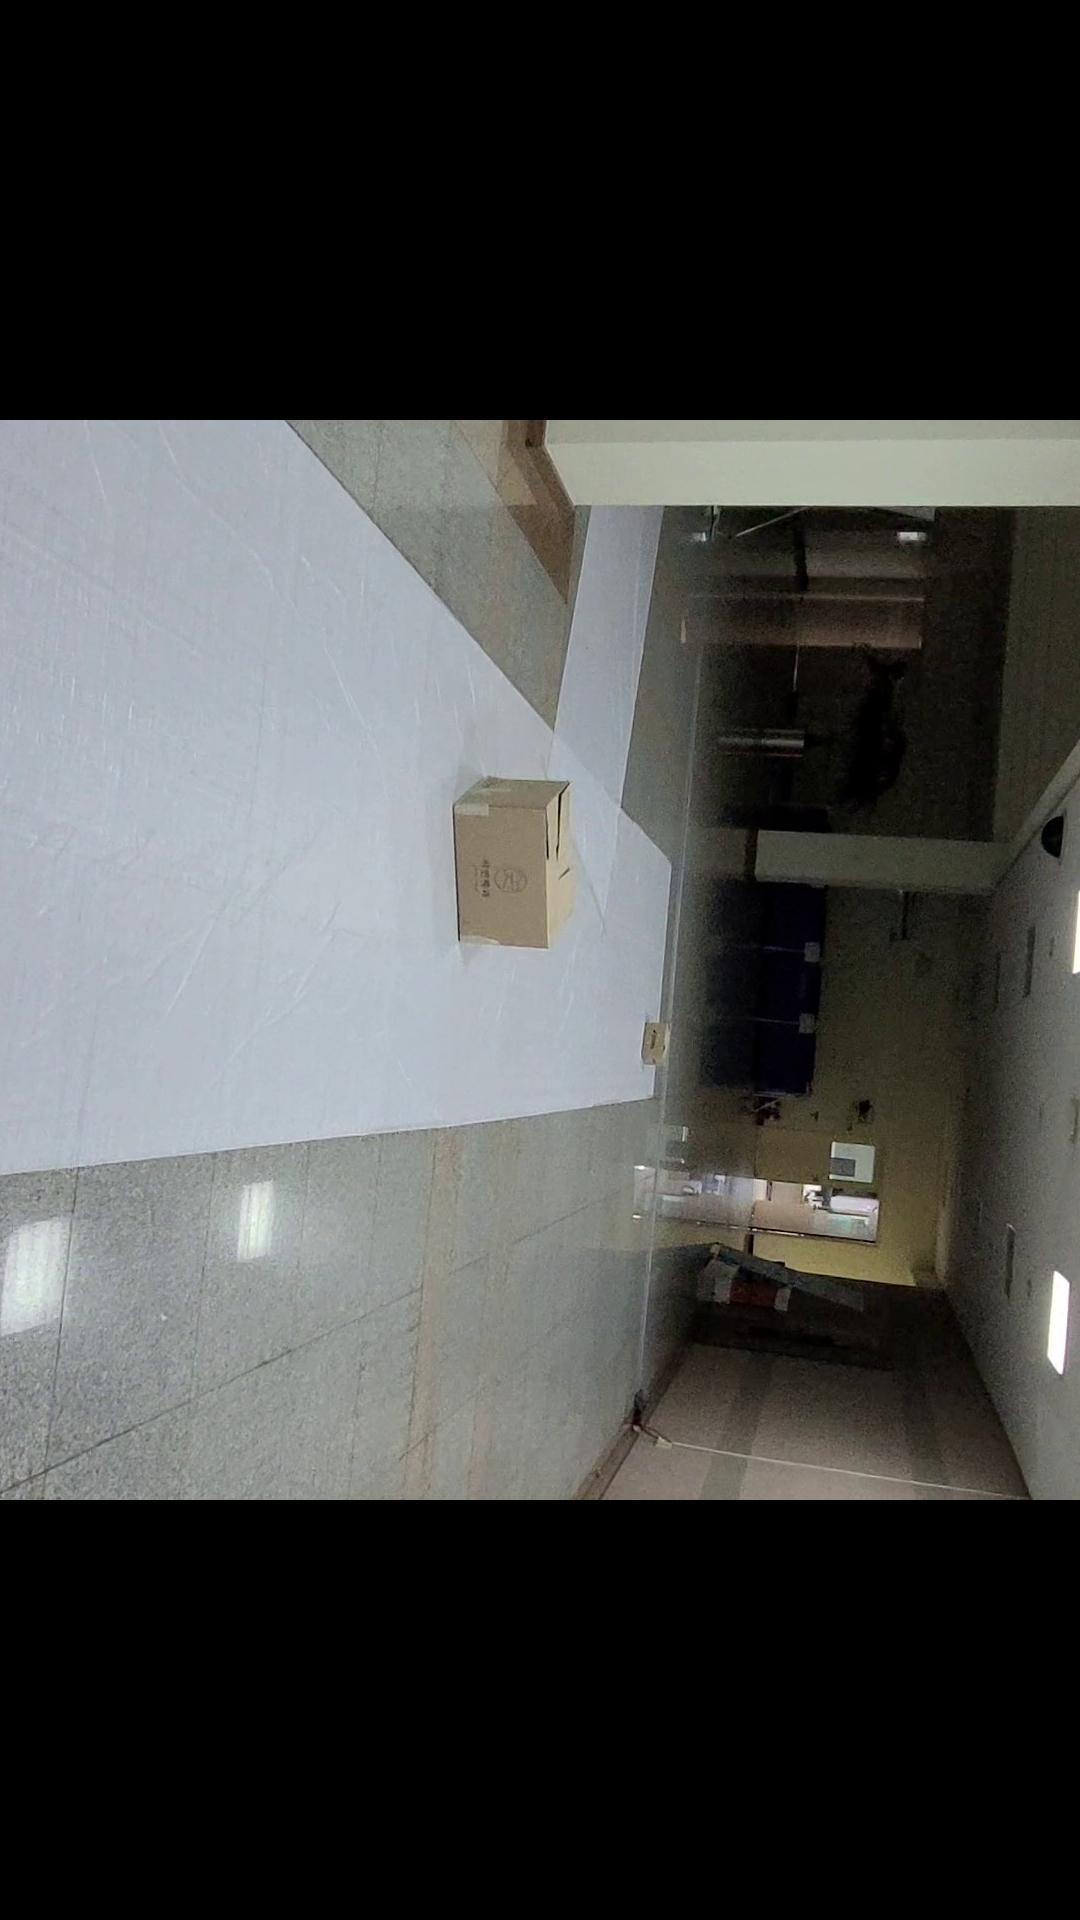Box: (443, 752, 625, 998), (607, 1001, 702, 1106)
